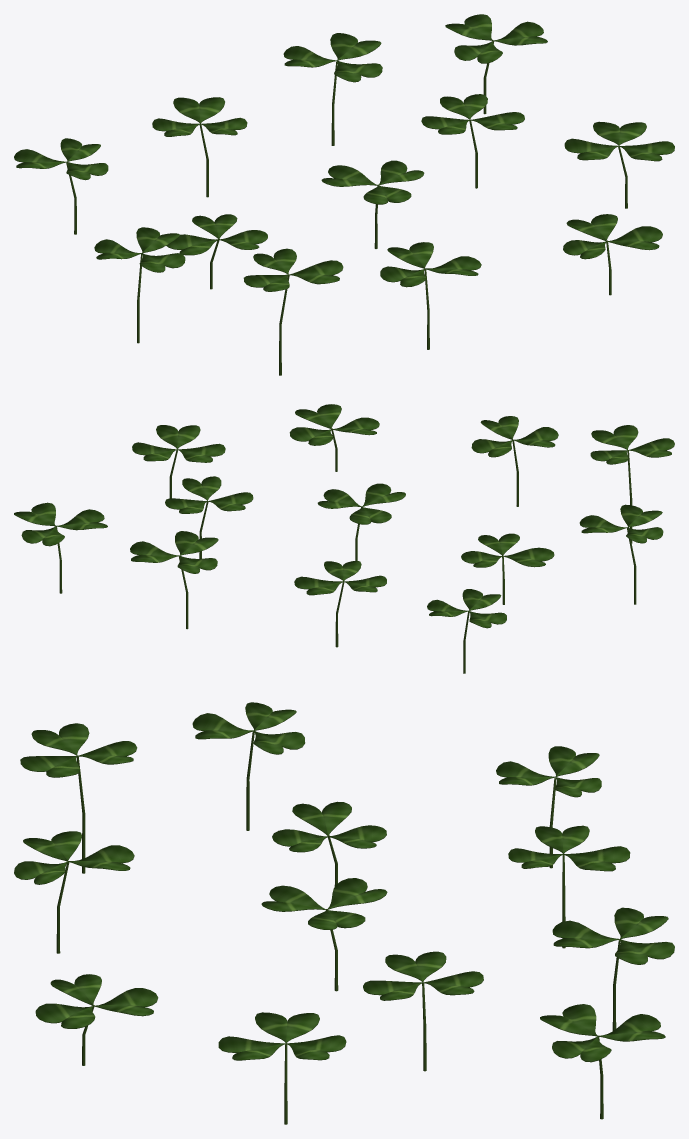
The model's file is clover_patch.fbx.
3 renders of one model, top to bottom at view 1: azimuth 30°, elevation 25°; view 2: azimuth 150°, elevation 25°; view 3: azimuth 270°, elevation 25°, orthographic. The views are drawn at different scales.
Visible parts, largest first — view 1: clover_patch; view 2: clover_patch; view 3: clover_patch.
Part boxes in pixels (x1,y1,x2,y2): clover_patch: (14,14,674,375); clover_patch: (14,404,674,673); clover_patch: (14,702,674,1124).
Size of what is drawn, in the model's own units: 0.6375 by 0.1111 by 0.523.
1 material, 1 textured.
